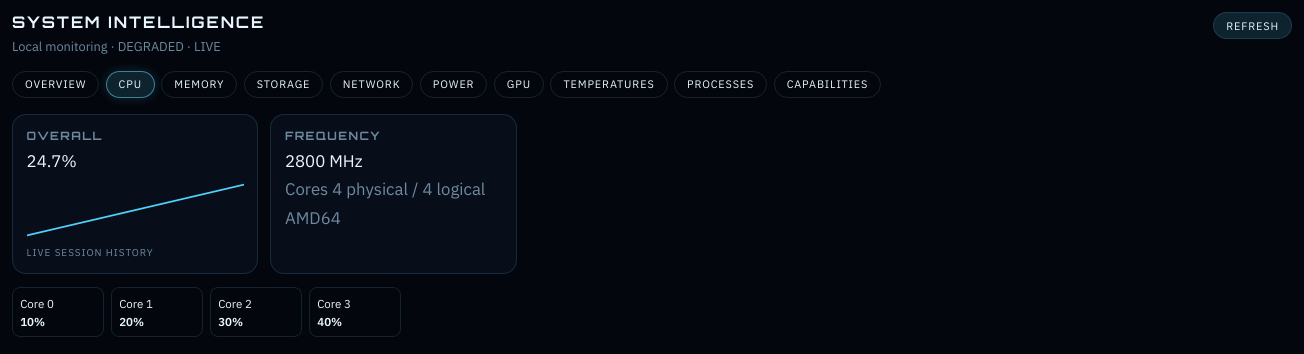
Test: SystemIntelligencePanel › renders per-core grid and frequency
The width and height of the screenshot is (1304, 354).
Check: the text "Core 0" is shown, box left=20, top=296, right=54, bottom=310
Check: the text "2800 MHz" is shown, box left=285, top=150, right=362, bottom=172
Click the button "Memory".
click(199, 84)  # box left=161, top=71, right=237, bottom=98
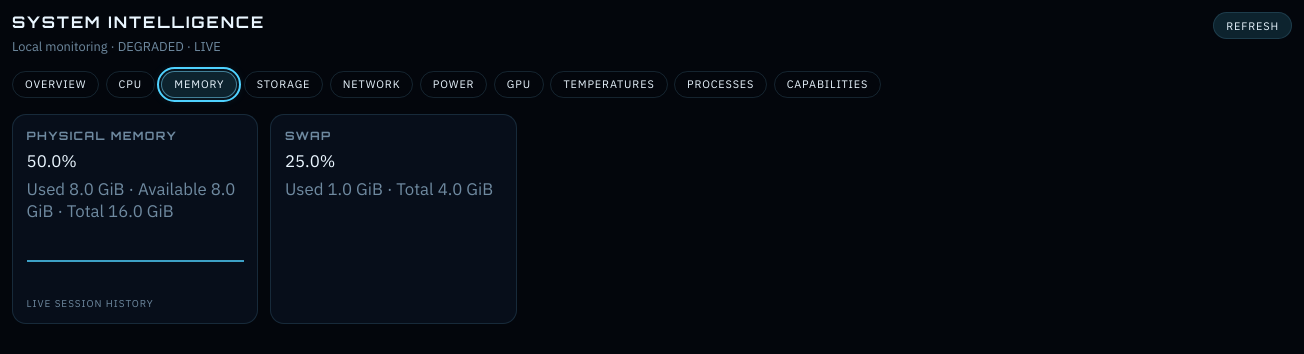
Check: the heading "Physical memory" is shown, box left=27, top=128, right=177, bottom=143
